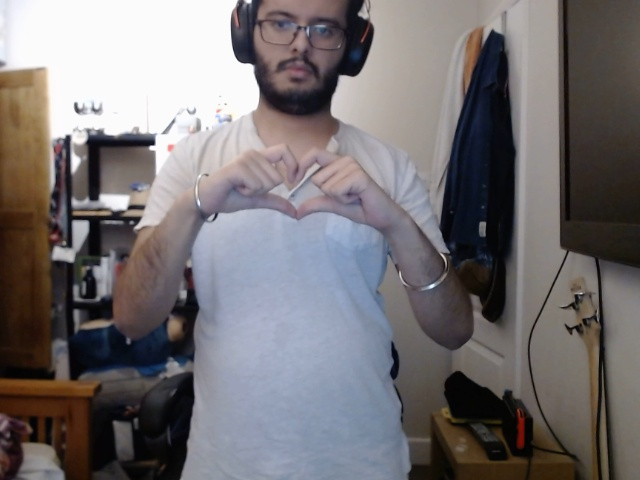Heart: (197, 142, 396, 229)
